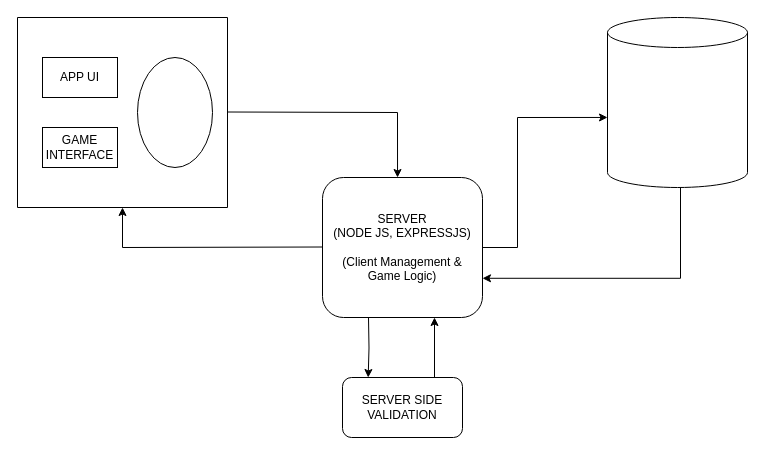
Image size: 765x455. Some labels were removed from this diagram. Here are the shapes that lost their labels. From the top down, the centre of each, then its label:
the point at 174,112: CLIENT SIDE VALIDATION
the point at 677,102: DATABASE (Mongo DB) (User Info & Game State)
